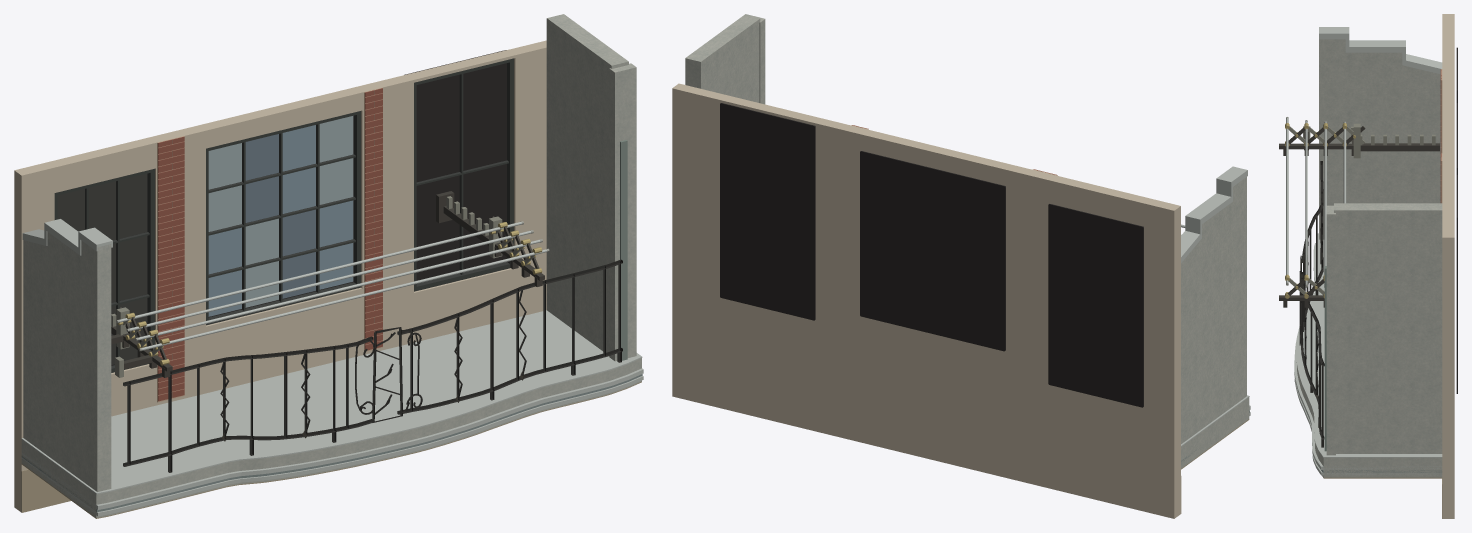
File: changning-taoyuanfang-curved-balcony-lod.glb
The picture shows the model from 3 angles, left to right: view 1: azimuth 30°, elevation 25°; view 2: azimuth 150°, elevation 25°; view 3: azimuth 270°, elevation 25°; orthographic projection. The views are drawn at different scales.
Parts seen in each view (by area): view 1: 桃源坊端部阳台的折弧线脚、卷草铁栏与四杆晾衣架; view 2: 桃源坊端部阳台的折弧线脚、卷草铁栏与四杆晾衣架; view 3: 桃源坊端部阳台的折弧线脚、卷草铁栏与四杆晾衣架.
Boxes of the visible parts, x1,y1,x2,y2 form: 桃源坊端部阳台的折弧线脚、卷草铁栏与四杆晾衣架: (14,14,643,518); 桃源坊端部阳台的折弧线脚、卷草铁栏与四杆晾衣架: (672,14,1250,518); 桃源坊端部阳台的折弧线脚、卷草铁栏与四杆晾衣架: (1279,14,1457,518).
Size of the model in its own units: 6.07 by 3.87 by 2.05.
23 materials, 1 textured.
